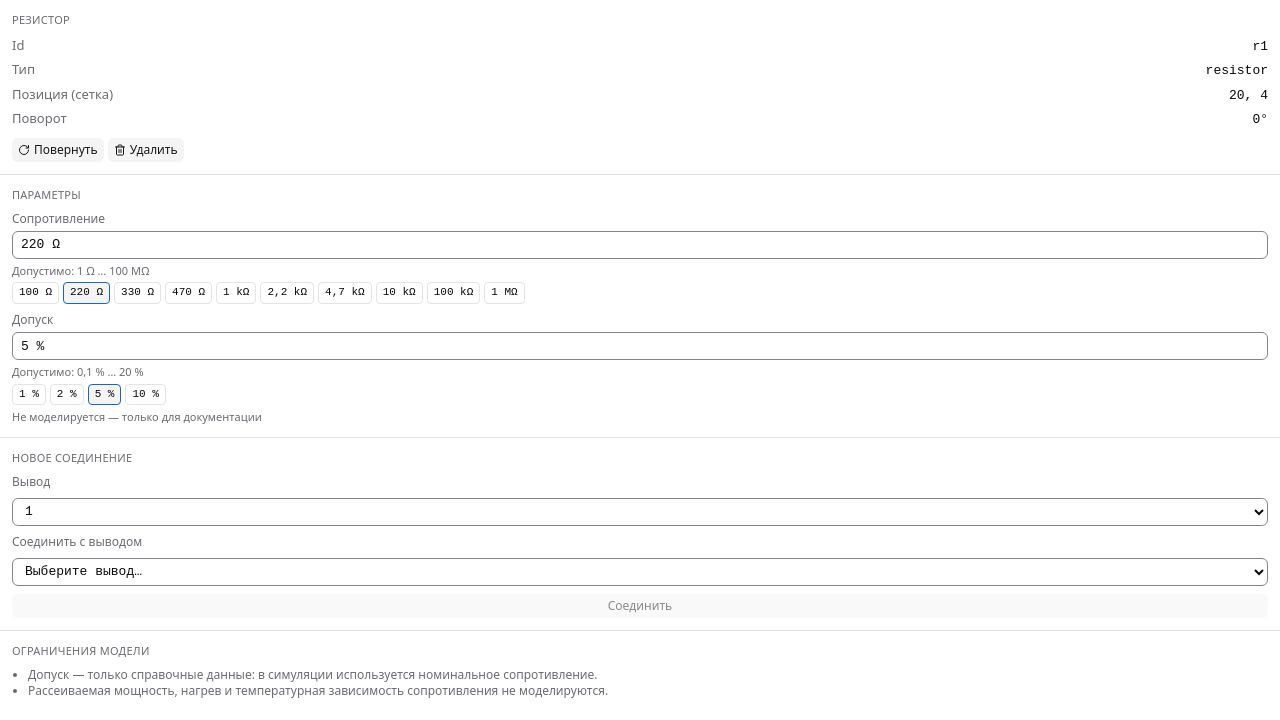
Test: PropertiesPanel › rejects unparsable and out-of-range values without changing the model
This screenshot has width=1280, height=720.
Replace the text in the field labelled "Сопротивление" with "abc" at [640, 245], box [12, 231, 1268, 259]
Then press Enter
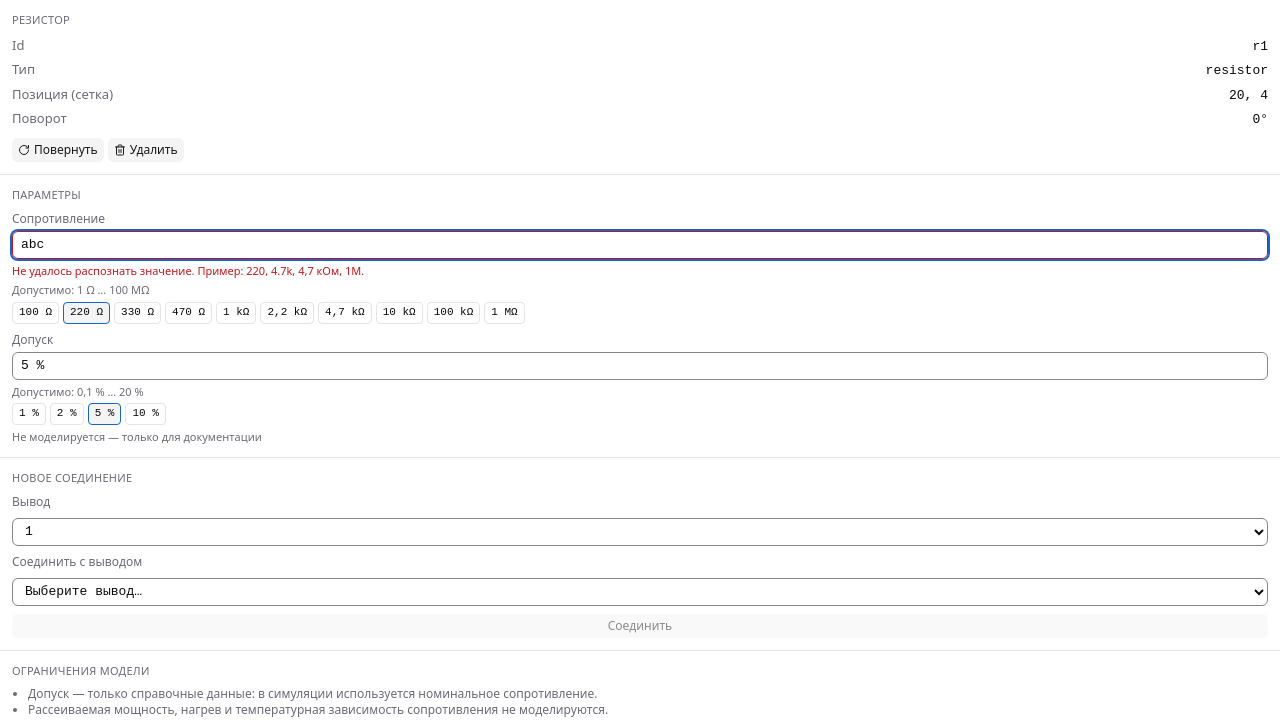
Expected: the message shows "Не удалось распознать значение", [12, 263, 364, 278]
Replace the text in the field labelled "Сопротивление" with "0" at [640, 245], box [12, 231, 1268, 259]
Then press Enter
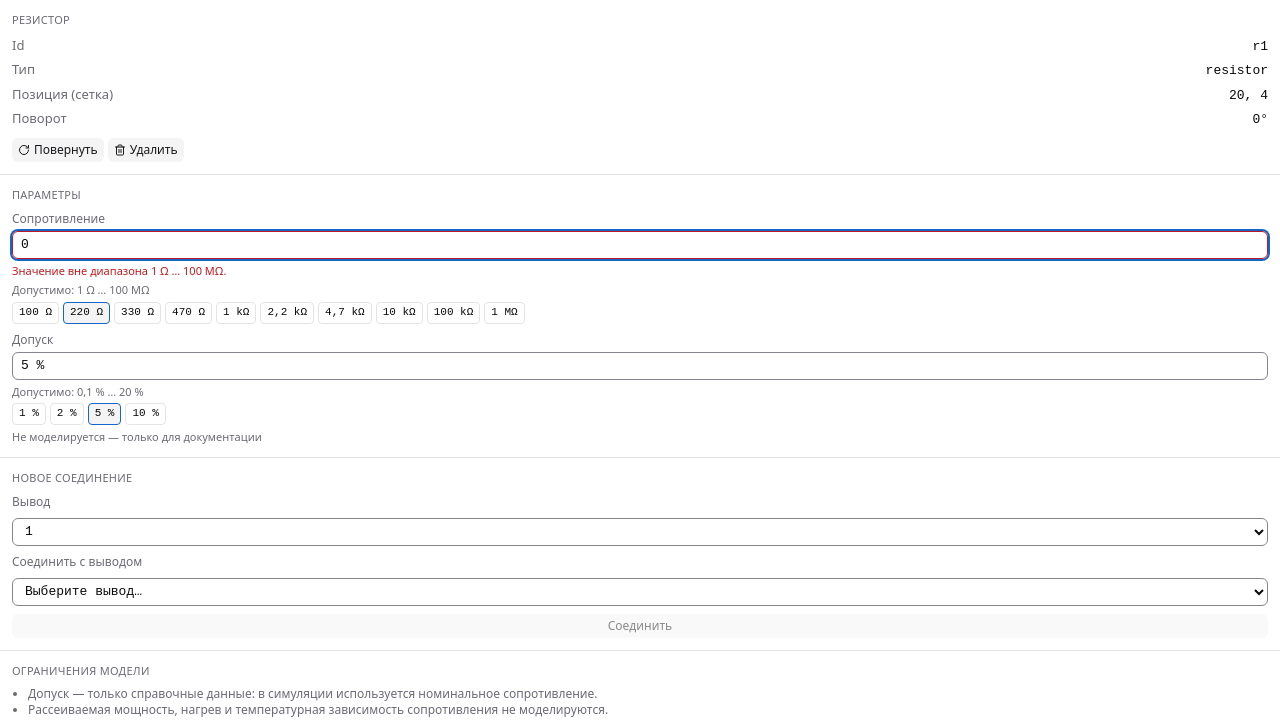
Expected: the message shows "вне диапазона", [12, 263, 226, 278]
Press Escape
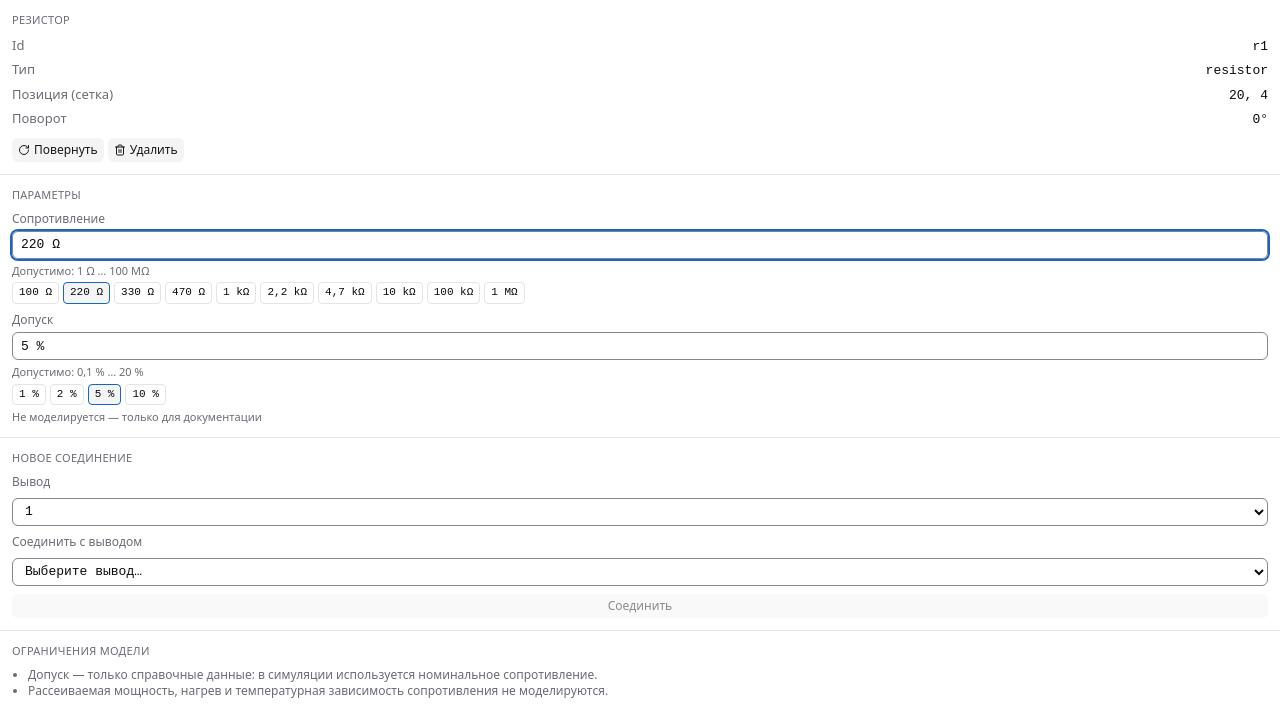
Expected: the field labelled "Сопротивление" holds "220 Ω", [12, 231, 1268, 259]
Expected: the message "Значение вне диапазона 1 Ω … 100 MΩ." is gone
